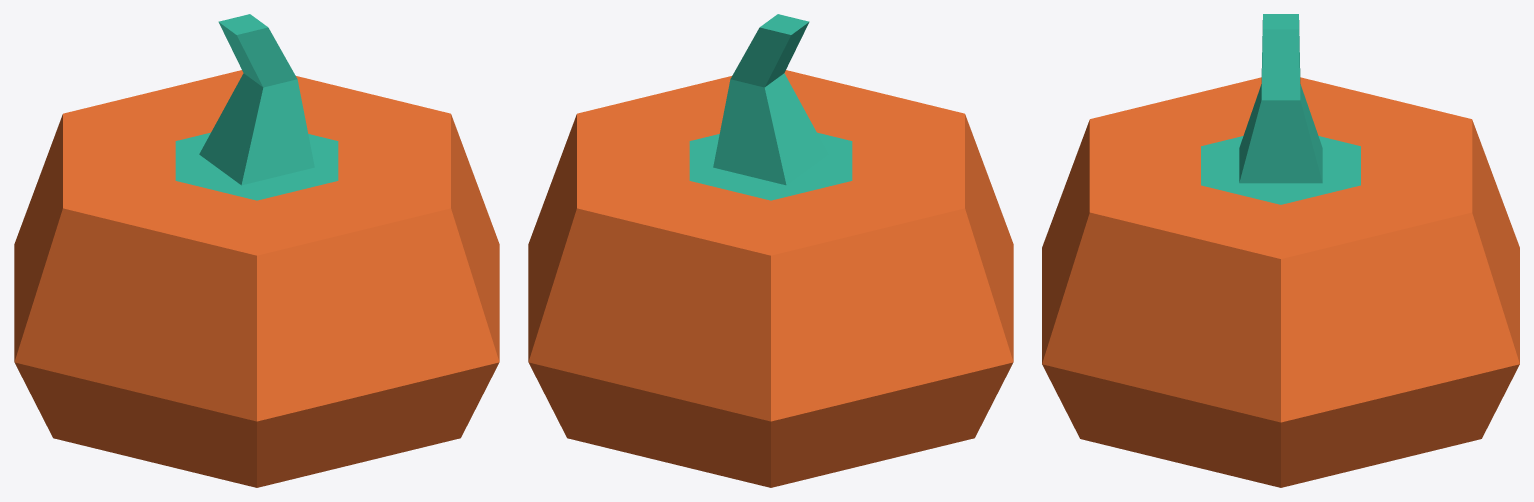
Rendered from pumpkin.obj.
3 renders of one model, left to right at view 1: azimuth 30°, elevation 25°; view 2: azimuth 150°, elevation 25°; view 3: azimuth 270°, elevation 25°, orthographic.
Visible parts, largest first — view 1: pumpkin; view 2: pumpkin; view 3: pumpkin.
Part boxes in pixels (bbox=[...]): pumpkin: bbox=[14, 14, 499, 487]; pumpkin: bbox=[528, 14, 1013, 487]; pumpkin: bbox=[1042, 14, 1519, 487].
Bounding box in the file's own units: 0.357 × 0.2583 × 0.3092.
